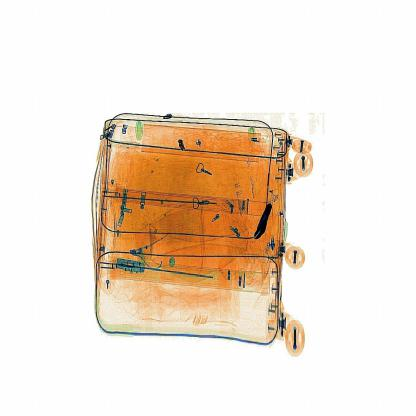knife: (251, 198, 282, 247)
